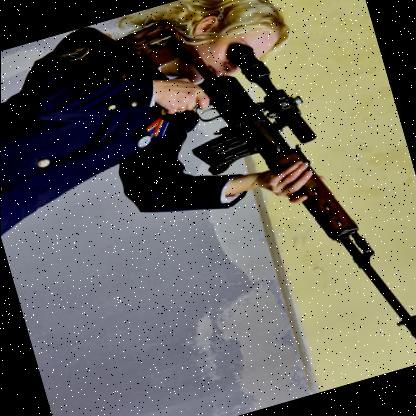rifle: (107, 0, 416, 411)
